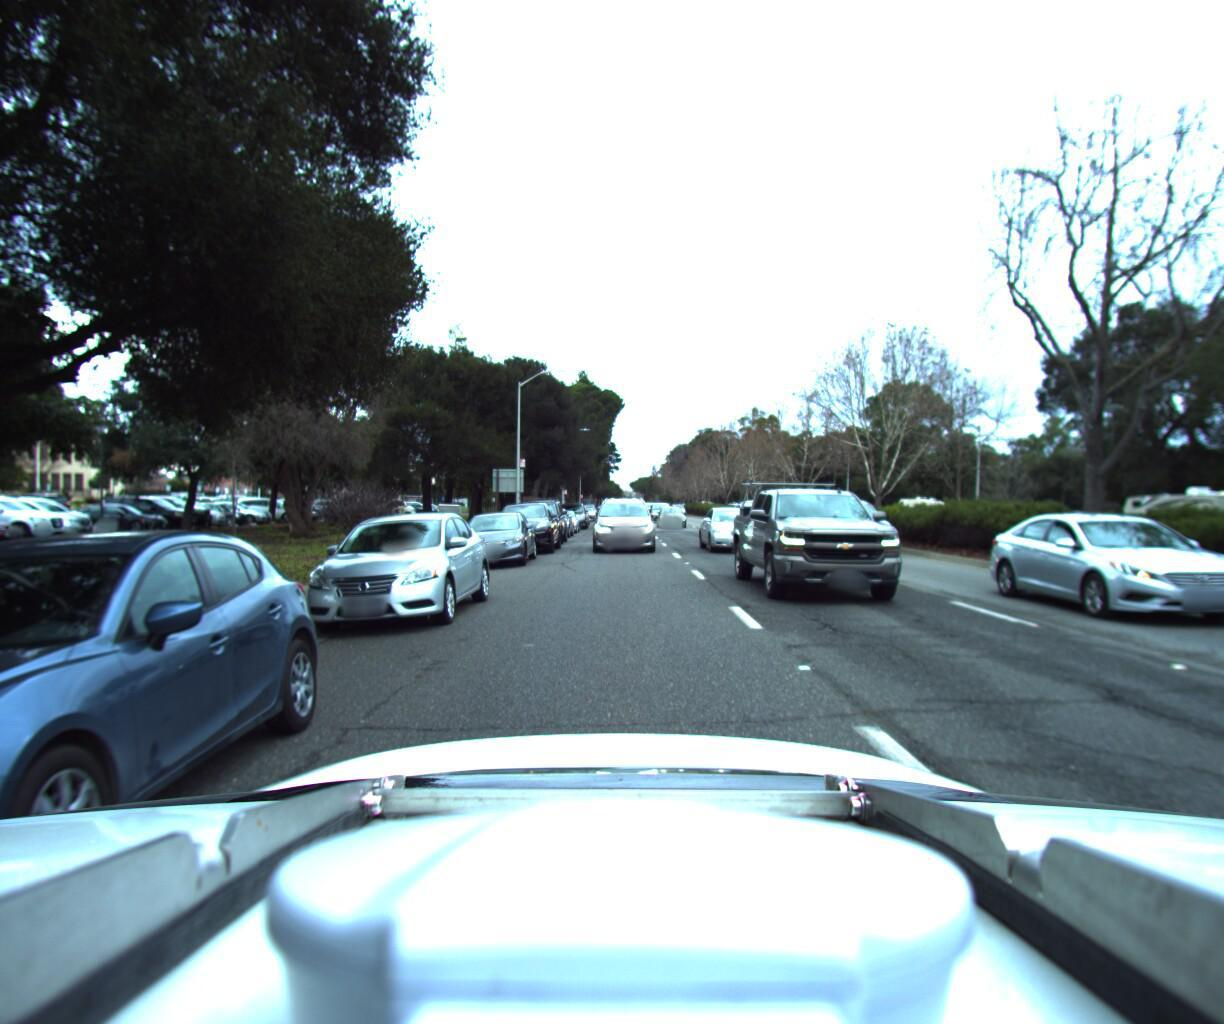car: (990, 505, 1224, 631), (723, 467, 925, 611), (283, 507, 492, 634), (803, 493, 905, 554), (449, 504, 539, 564), (591, 487, 658, 549), (487, 495, 561, 550), (692, 500, 772, 551), (505, 490, 567, 541), (528, 499, 572, 536), (553, 494, 586, 524), (654, 499, 687, 521)
other_vehicle: (1111, 474, 1224, 544), (894, 488, 942, 516)
